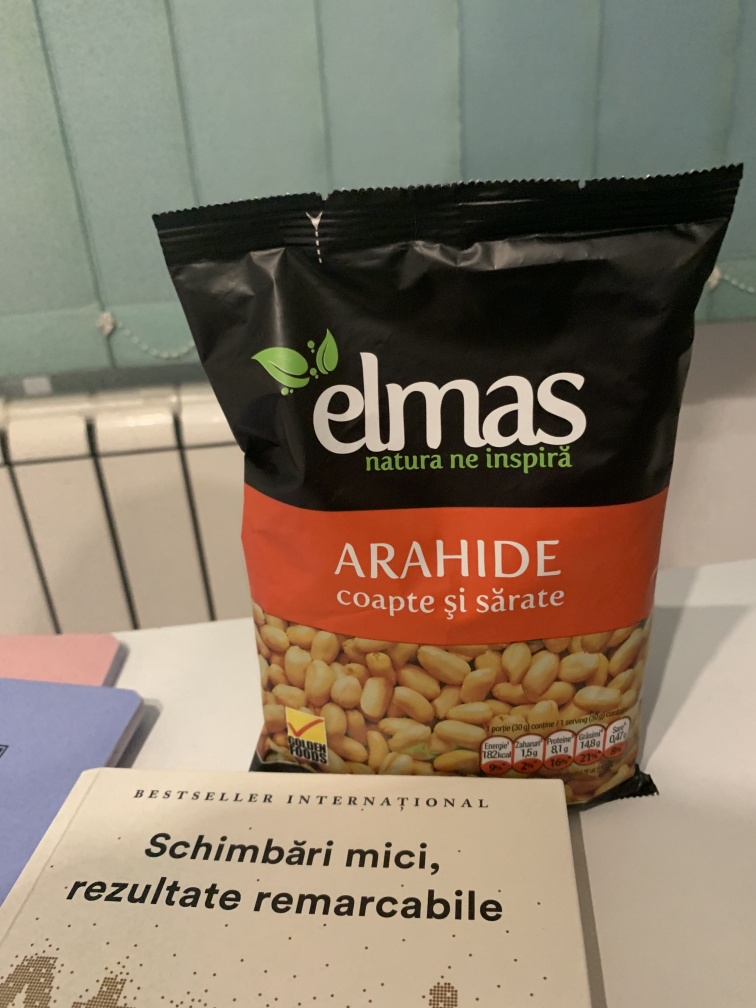peanuts: (137, 161, 756, 810)
